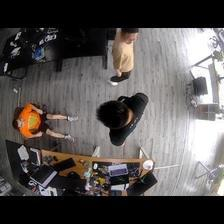normal: (96, 91, 149, 148), (11, 102, 80, 142), (109, 27, 139, 87)
